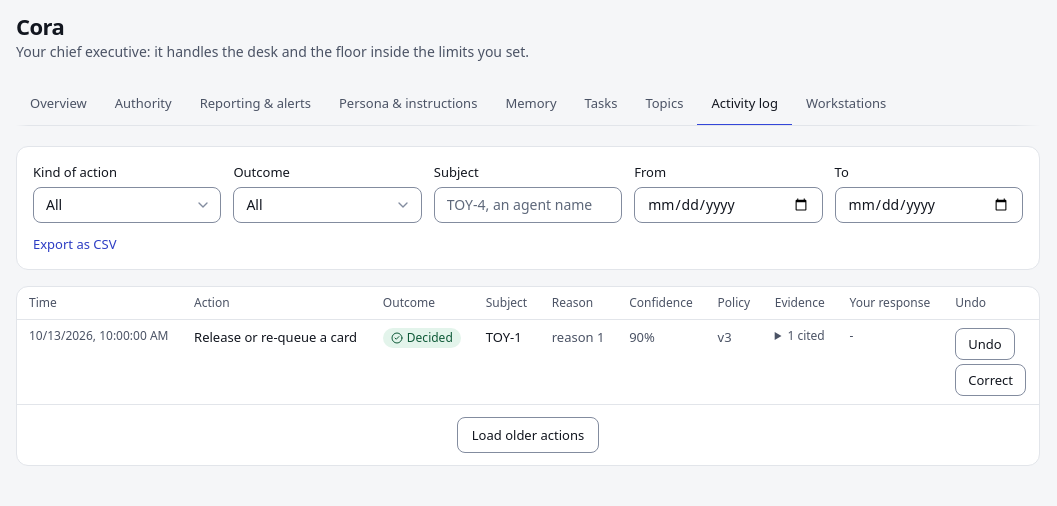
Test: the CEO activity log › loads older actions with the next cursor as before
Click the button with test id "ceo-actions-more": (528, 435) 457,417 -> 599,453
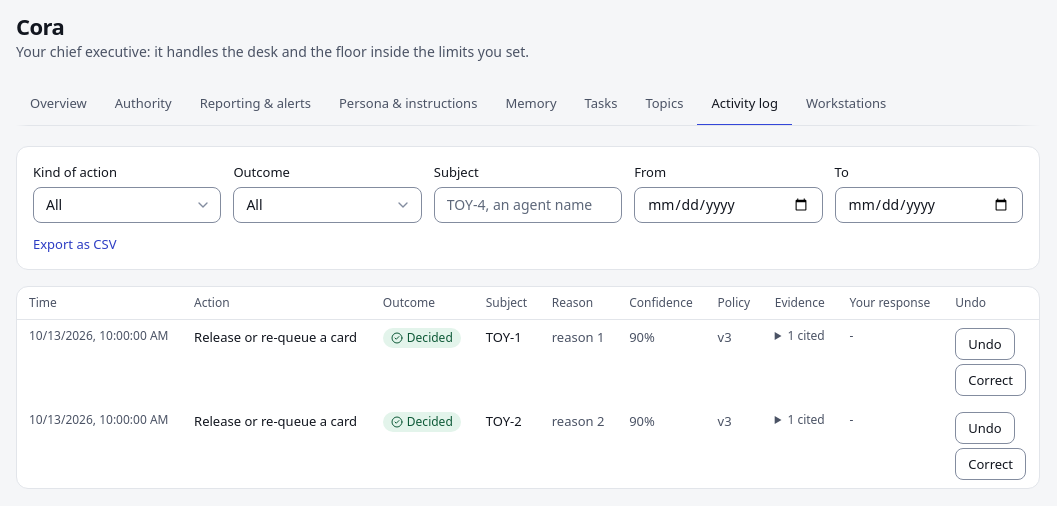
Result: the number of rows with test id "ceo-action" is 2 at 17,320 -> 1039,404; 17,404 -> 1039,488
Result: the button with test id "ceo-actions-more" is gone
